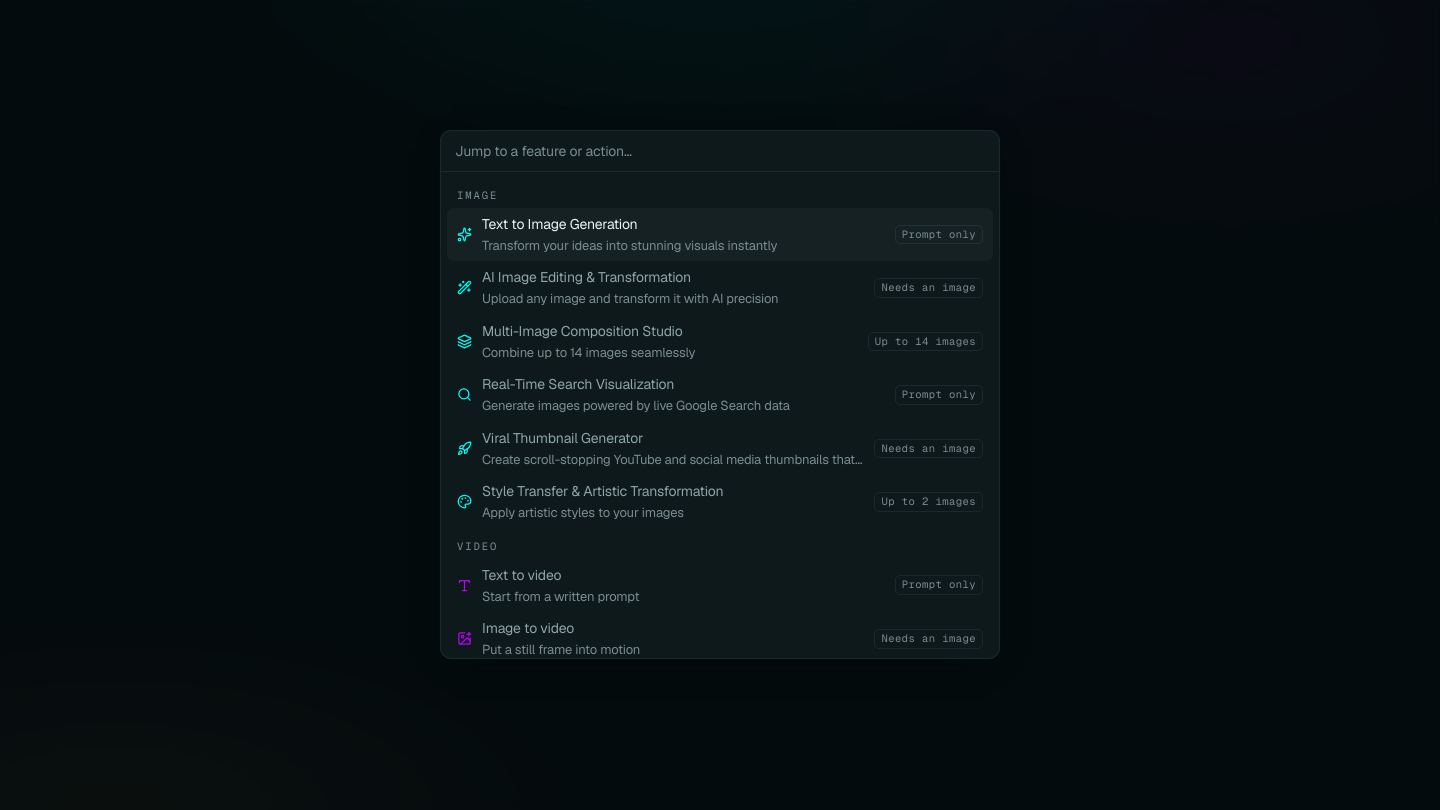
Test case: CommandPalette › keeps a search on the rows that actually match the word
Type "video" into the dropdown with placeholder "Jump to a feature or action…" at (720, 151), box x1=441 y1=131 x2=999 y2=172
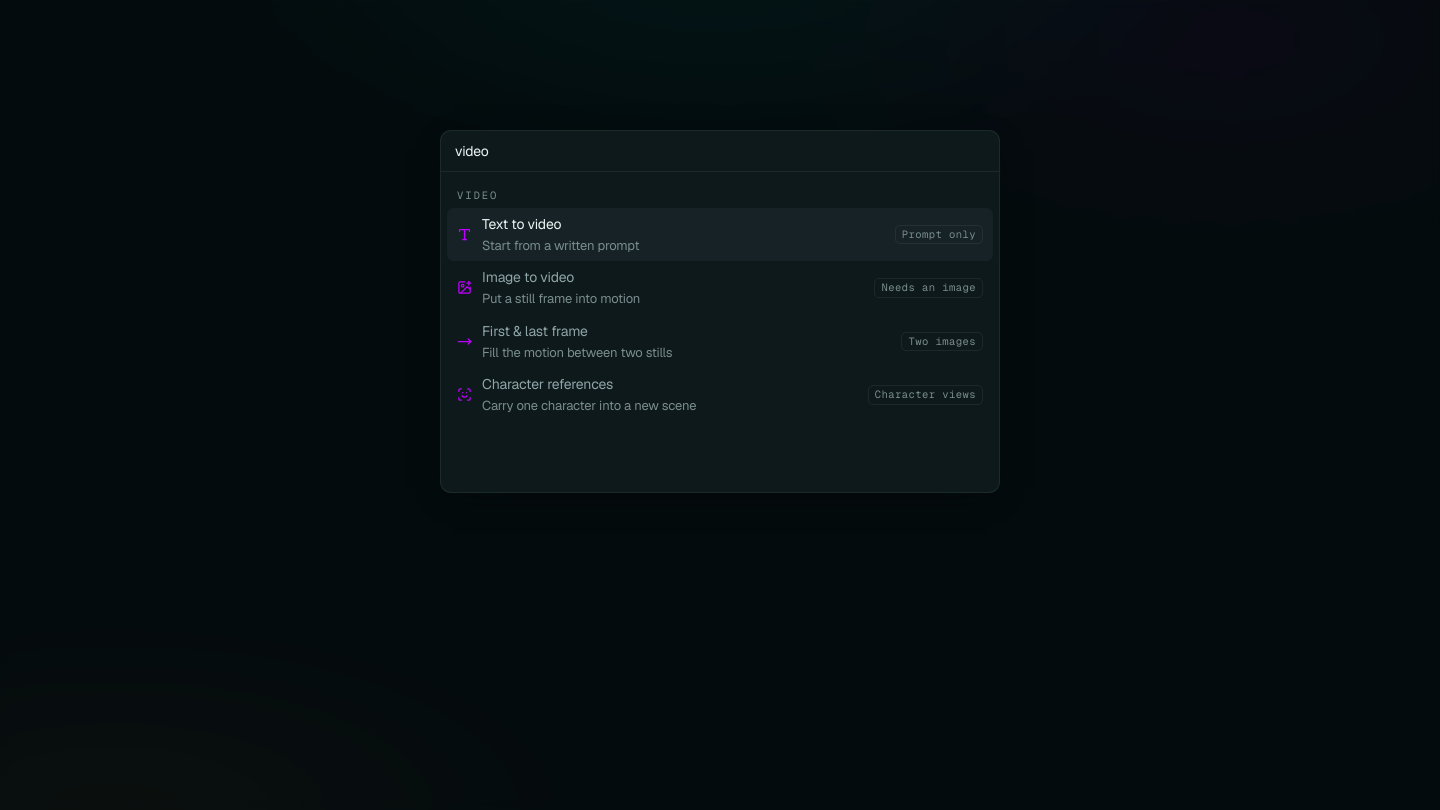
Expected: the text "Text to video" is shown, x1=482 y1=215 x2=561 y2=233
Result: the option "Viral Thumbnail Generator" is gone
Result: the option "Real-Time Search Visualization" is gone
